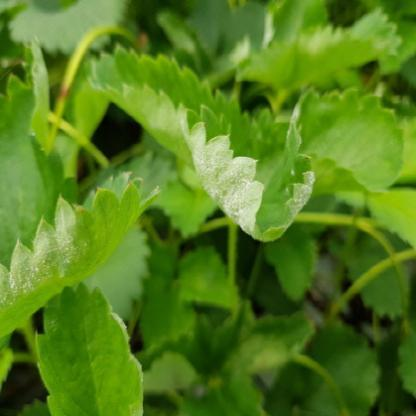Strawberry_Powdery_Mildew_Leaf: (0, 171, 162, 338), (182, 104, 316, 244), (35, 280, 145, 416)
